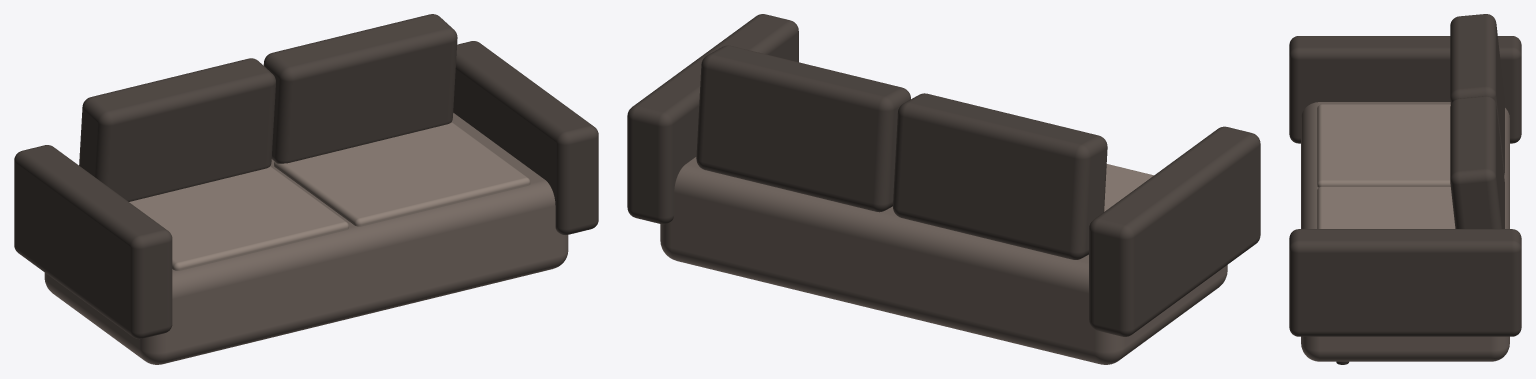
File: freilicht.glb
3 views of the same model, side by side, from view 1: azimuth 30°, elevation 25°; view 2: azimuth 150°, elevation 25°; view 3: azimuth 270°, elevation 25° (orthographic). The views are drawn at different scales.
Visible parts, largest first — view 1: seat-base, back-cushion-1, back-cushion-2, arm-left, seat-cushion-2, arm-right, seat-cushion-1; view 2: seat-base, back-cushion-1, back-cushion-2, arm-left, arm-right, seat-cushion-1; view 3: arm-right, arm-left, seat-cushion-1, seat-base, back-cushion-2, seat-cushion-2, back-cushion-1.
Part boxes in pixels (left/top/right/bottom): seat-base: left=44, top=113, right=568, bottom=364; back-cushion-1: left=79, top=58, right=275, bottom=201; back-cushion-2: left=263, top=14, right=457, bottom=163; arm-left: left=14, top=145, right=172, bottom=339; seat-cushion-2: left=274, top=122, right=530, bottom=226; arm-right: left=453, top=41, right=598, bottom=234; seat-cushion-1: left=129, top=166, right=348, bottom=270; seat-base: left=660, top=157, right=1227, bottom=364; back-cushion-1: left=893, top=93, right=1107, bottom=259; back-cushion-2: left=696, top=45, right=910, bottom=212; arm-left: left=1089, top=126, right=1260, bottom=336; arm-right: left=627, top=14, right=798, bottom=224; seat-cushion-1: left=1104, top=164, right=1153, bottom=211; arm-right: left=1289, top=229, right=1521, bottom=336; arm-left: left=1289, top=36, right=1521, bottom=143; seat-cushion-1: left=1317, top=104, right=1450, bottom=187; seat-base: left=1301, top=102, right=1509, bottom=361; back-cushion-2: left=1450, top=96, right=1504, bottom=228; seat-cushion-2: left=1317, top=186, right=1455, bottom=228; back-cushion-1: left=1450, top=14, right=1504, bottom=175.
Size of the model in its own units: 1.85 by 0.7604 by 0.86.
